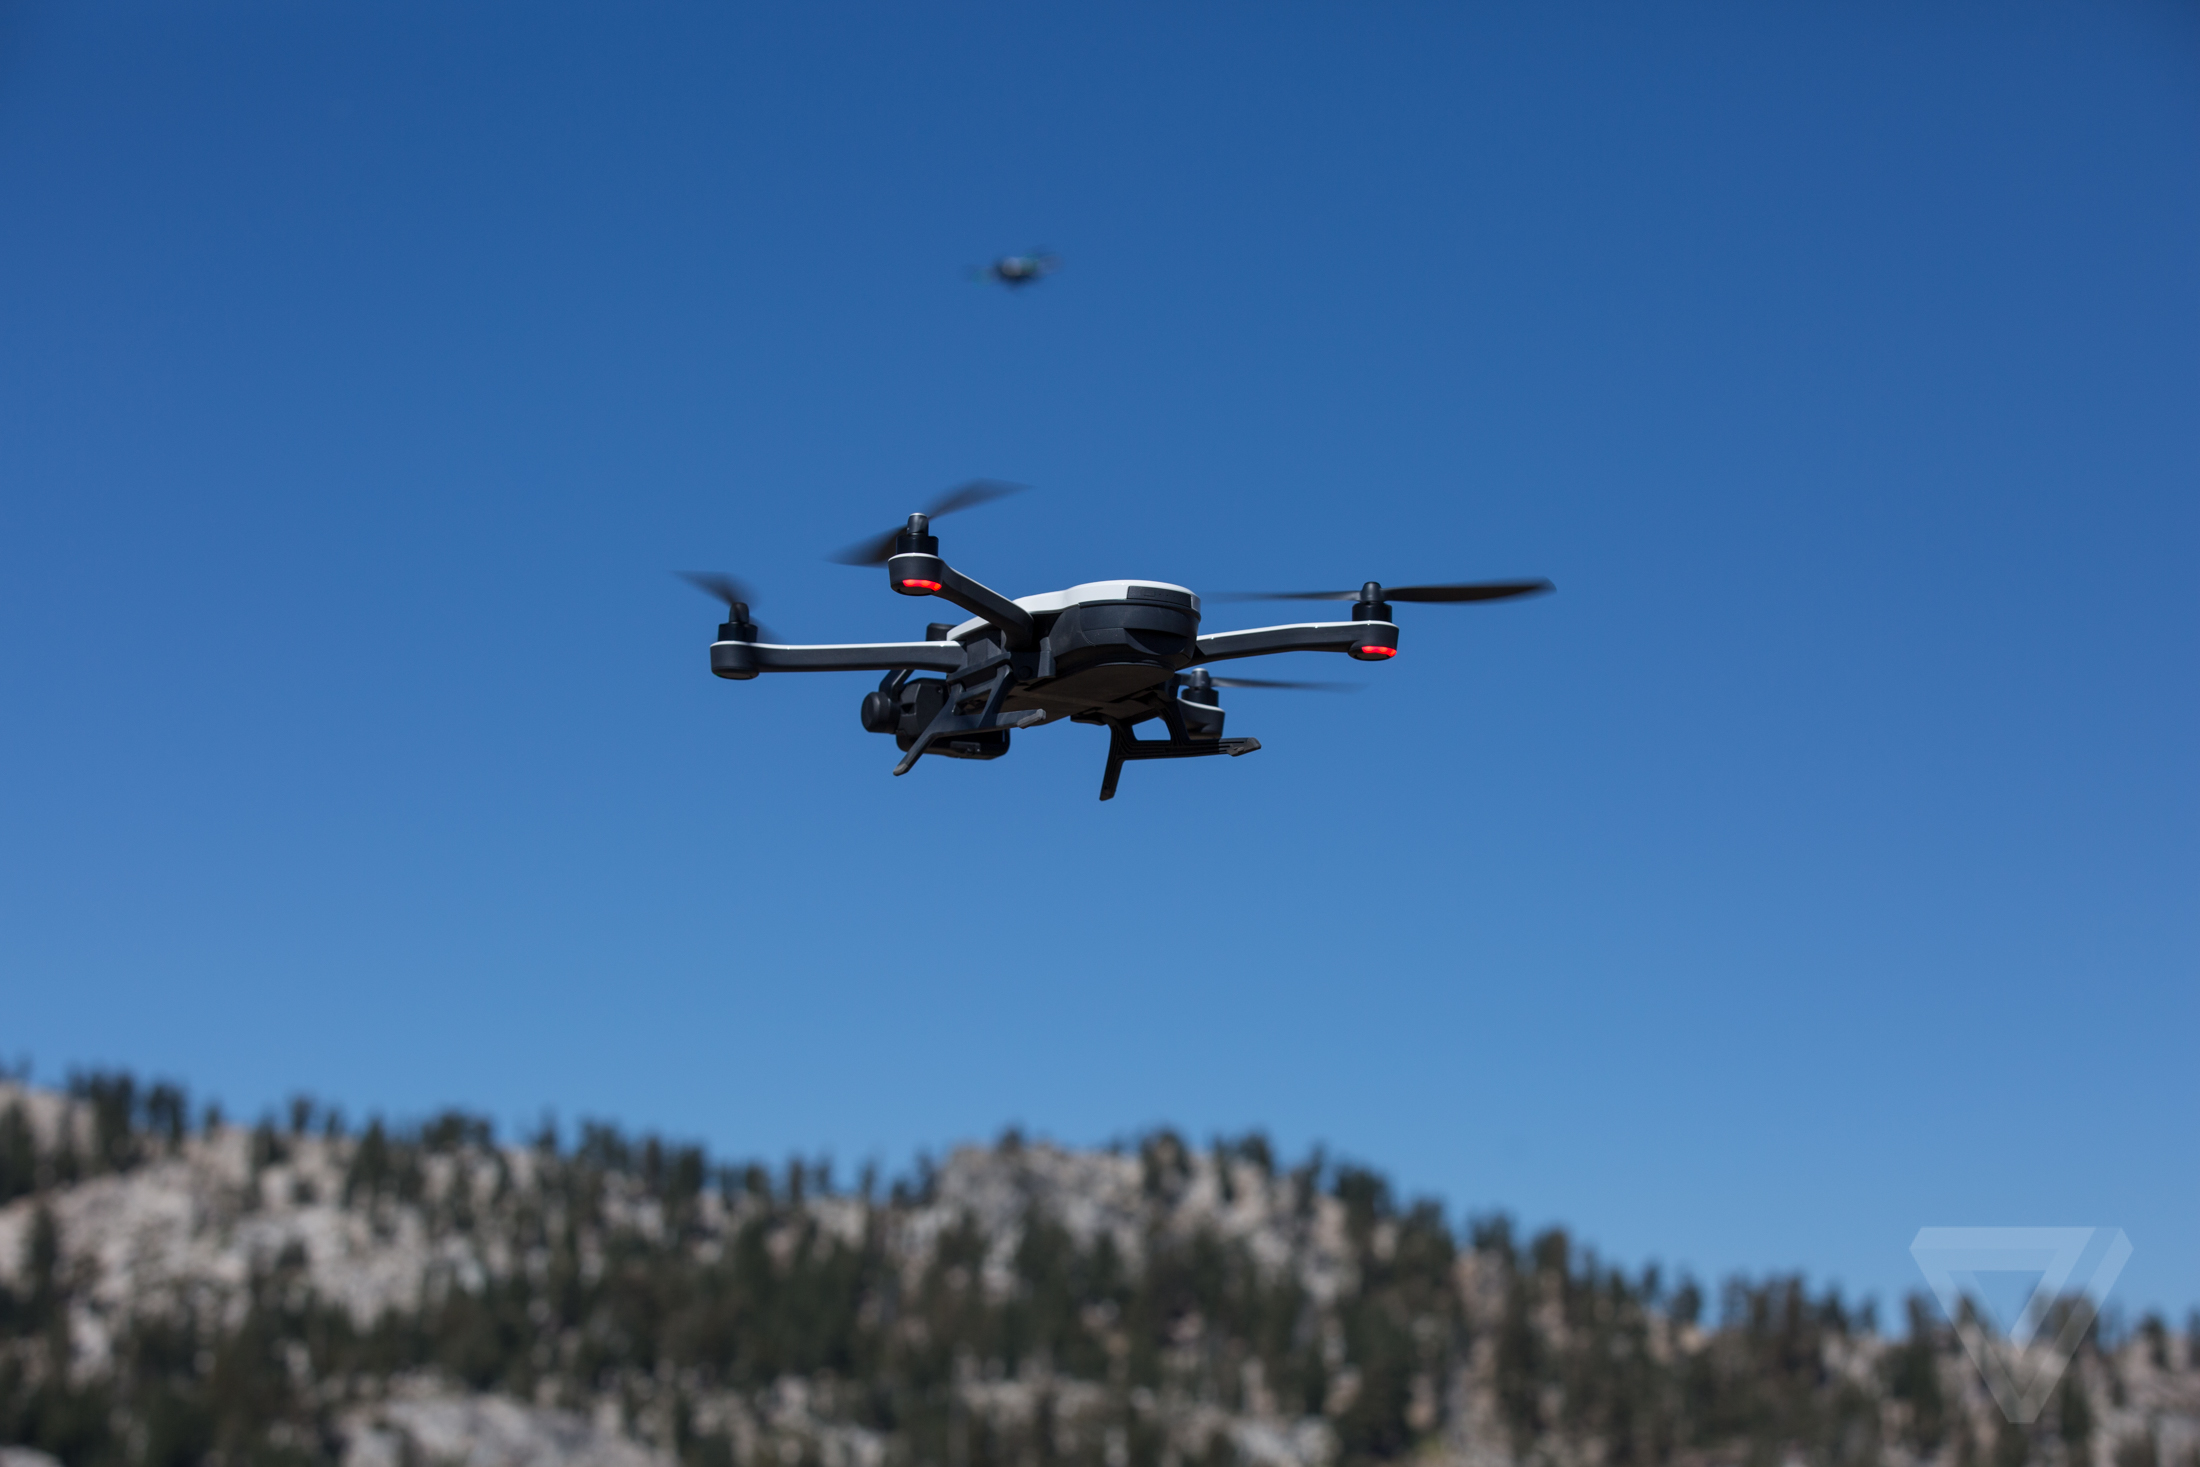drone: (661, 468, 1573, 814), (936, 234, 1107, 306)
